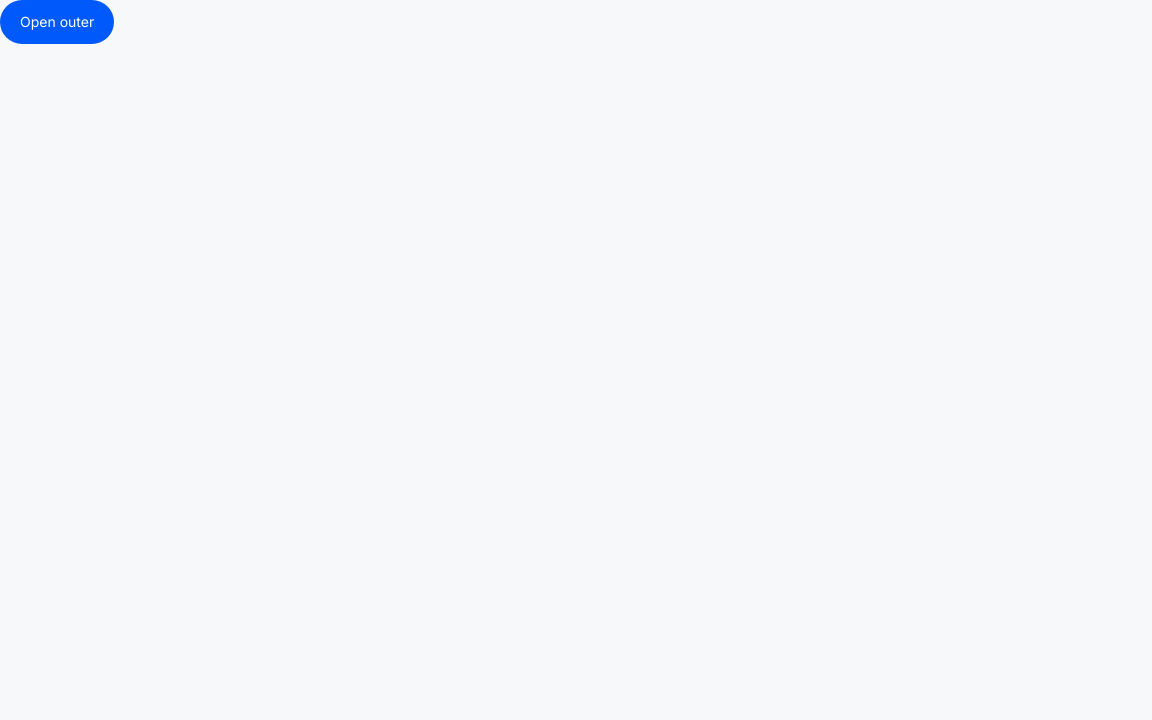
Modal and ConfirmDialog › gives the most recently opened dialog ownership of focus and Escape
Click the button "Open outer" at (57, 22), box [0,0,114,44]
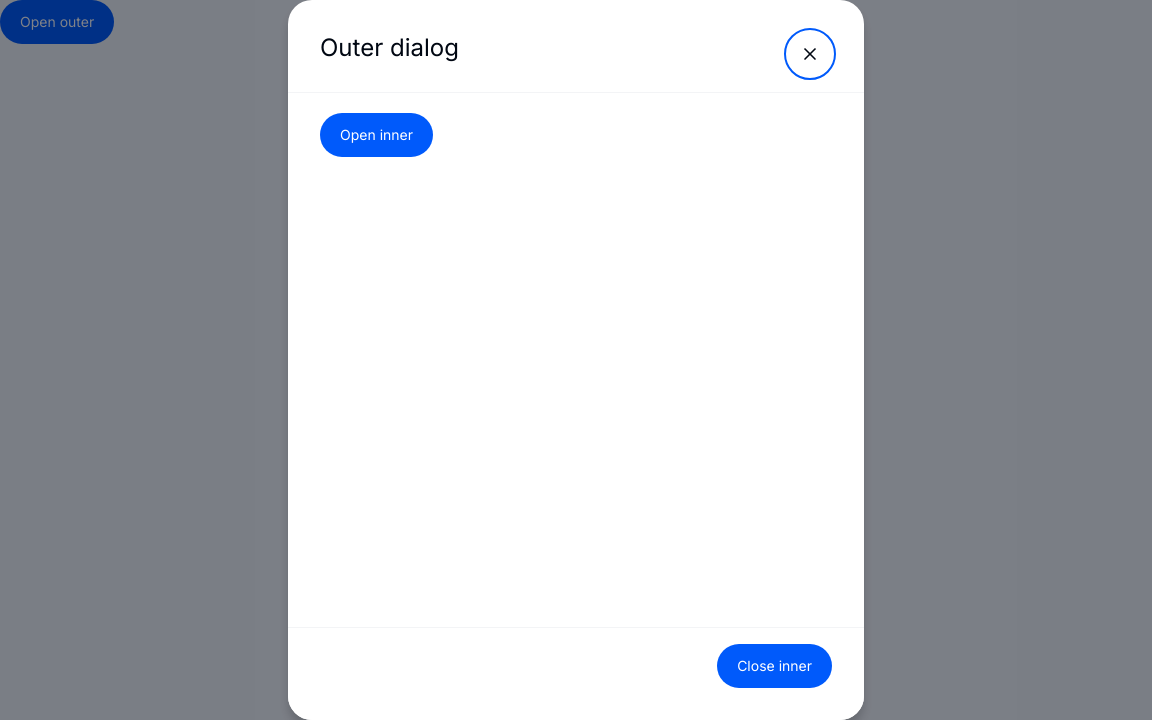
Click the button "Open inner" at (376, 135), box [320,113,433,157]
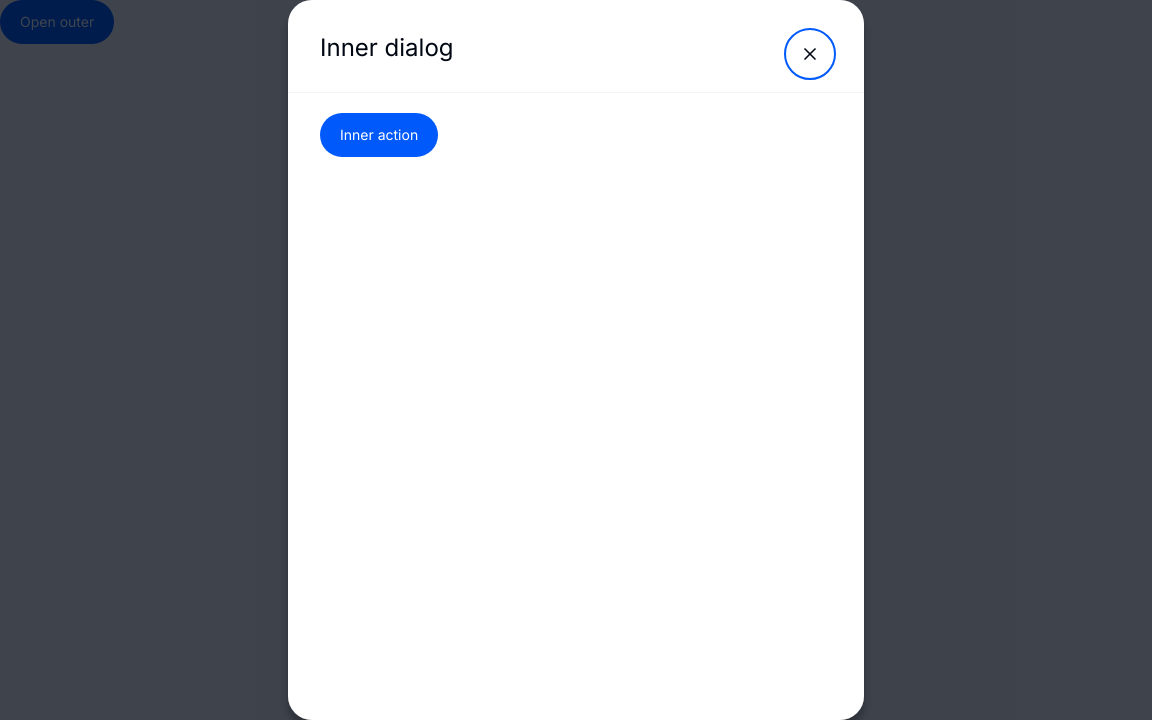
Press Escape
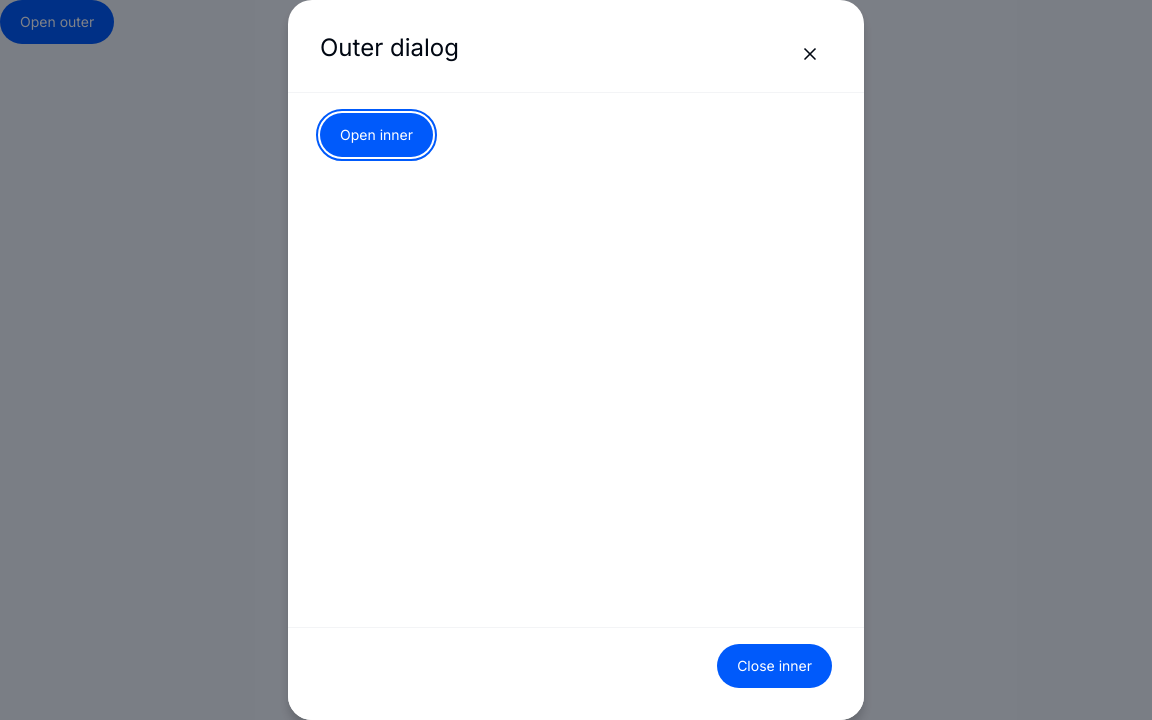
Expected: the dialog "Outer dialog" is shown, [288,0,864,719]
Expected: the heading "Inner dialog" is gone
